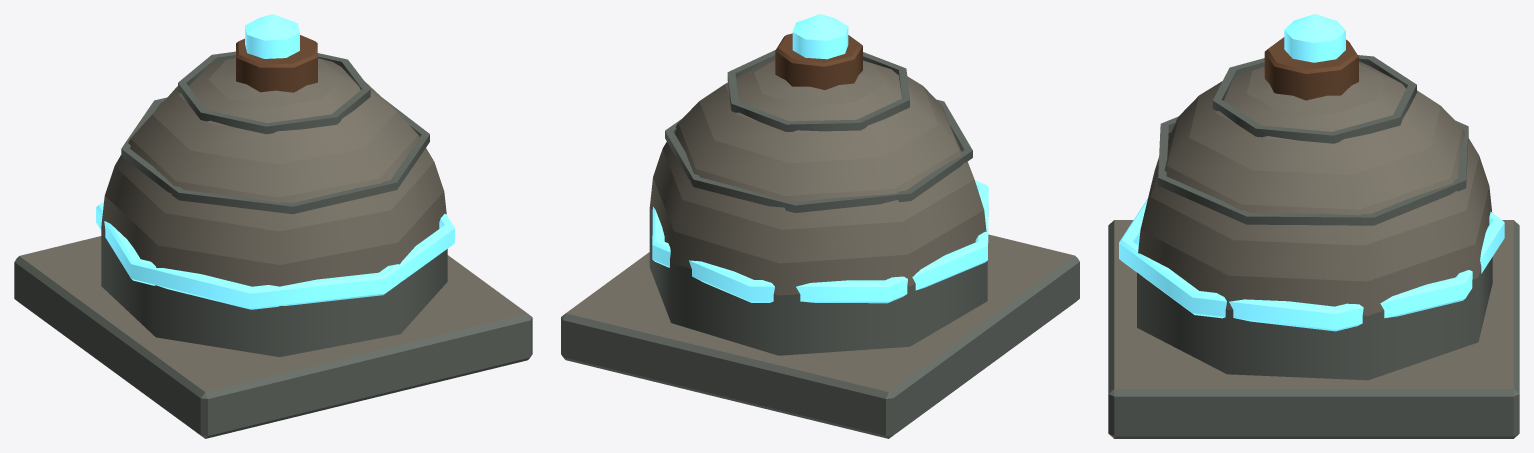
The model's file is R4X_PersonalShield_LOD1.fbx.
3 views of the same model, side by side, from view 1: azimuth 30°, elevation 25°; view 2: azimuth 150°, elevation 25°; view 3: azimuth 270°, elevation 25° (orthographic). The views are drawn at different scales.
Visible parts, largest first — view 1: R4X_PersonalShield_LOD1; view 2: R4X_PersonalShield_LOD1; view 3: R4X_PersonalShield_LOD1.
Part boxes in pixels (<box>): R4X_PersonalShield_LOD1: <box>14,14,532,438</box>; R4X_PersonalShield_LOD1: <box>561,14,1079,438</box>; R4X_PersonalShield_LOD1: <box>1108,14,1519,438</box>.
Size of the model in its own units: 0.52 by 0.475 by 0.52.
